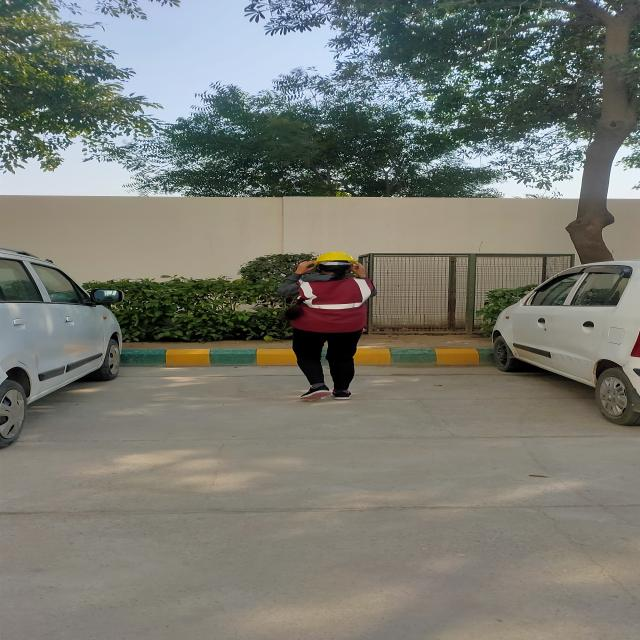safe: (278, 252, 377, 401)
